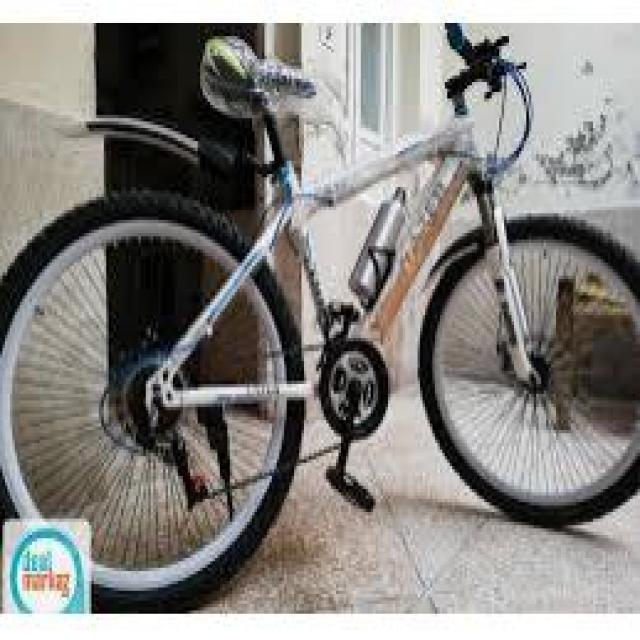bicycle: (6, 30, 640, 559)
